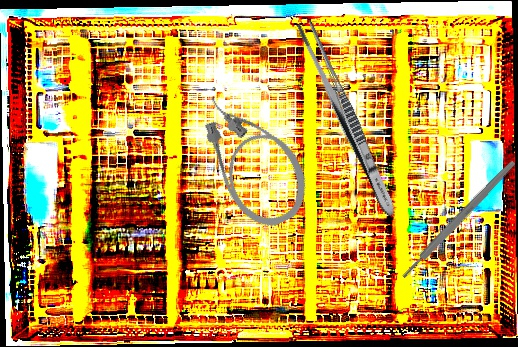Cannula: (188, 76, 320, 238)
Dressing Forceps: (293, 18, 402, 220)
Scalpel Handle: (400, 159, 517, 280)
